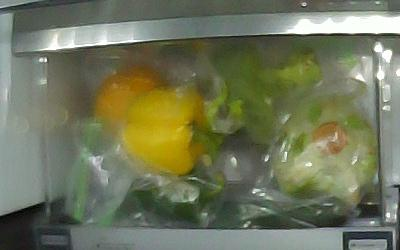broccoli_vinyl: (213, 41, 320, 143)
cucumber_vinyl: (205, 179, 356, 229)
grapefruit_vinyl: (94, 65, 168, 138)
lettuce_vinyl: (273, 96, 378, 207)
paprika_vinyl: (122, 87, 217, 176), (128, 169, 226, 227)
